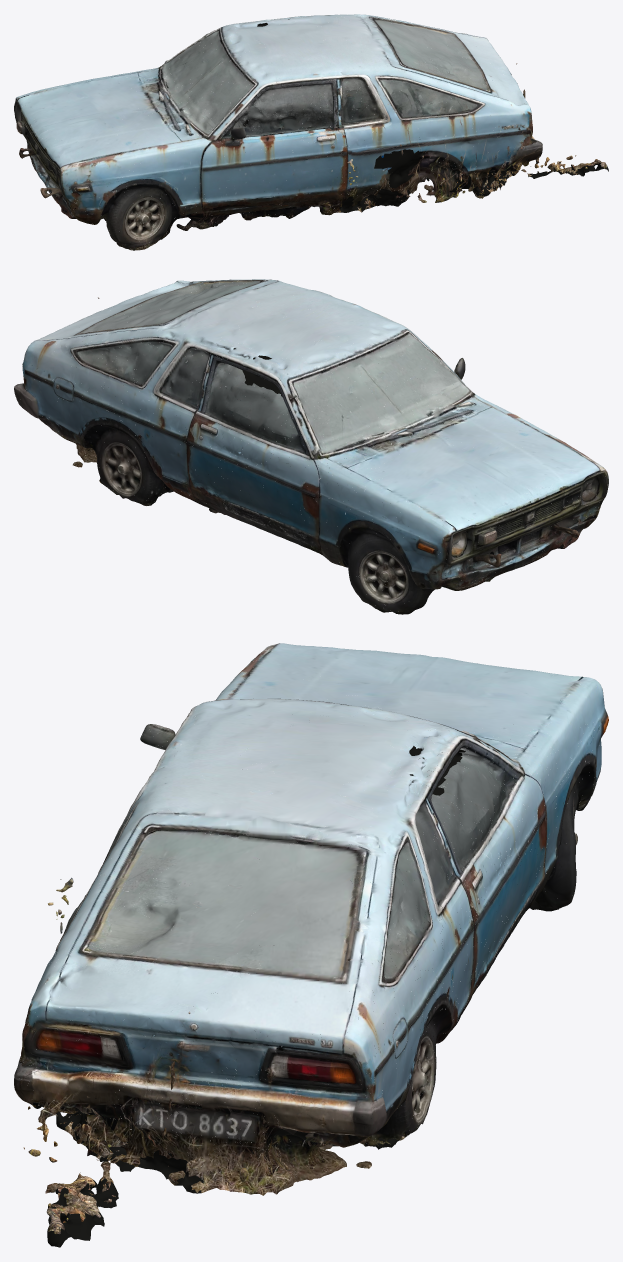
The model's file is auto.glb.
3 views of the same model, one above another, from view 1: azimuth 30°, elevation 25°; view 2: azimuth 150°, elevation 25°; view 3: azimuth 270°, elevation 25° (orthographic). The views are drawn at different scales.
Size of the model in its own units: 3.93 by 1.14 by 2.17.
Materials: 20 (20 with a texture image).
